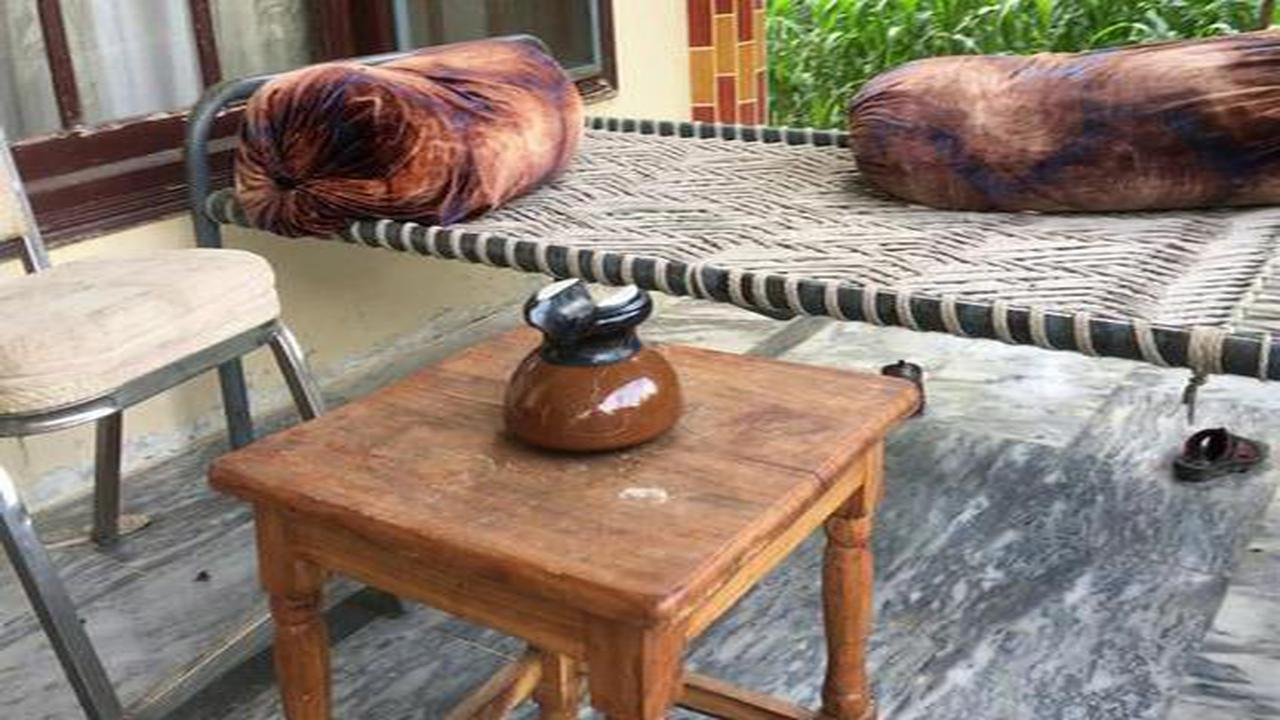insulator_pin: (487, 264, 702, 468)
